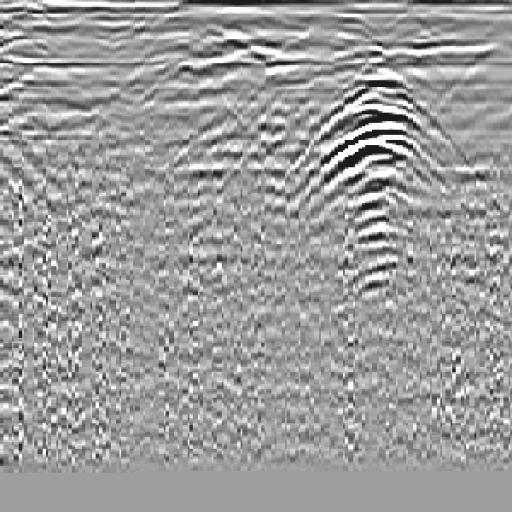metalic: (268, 48, 512, 313)
